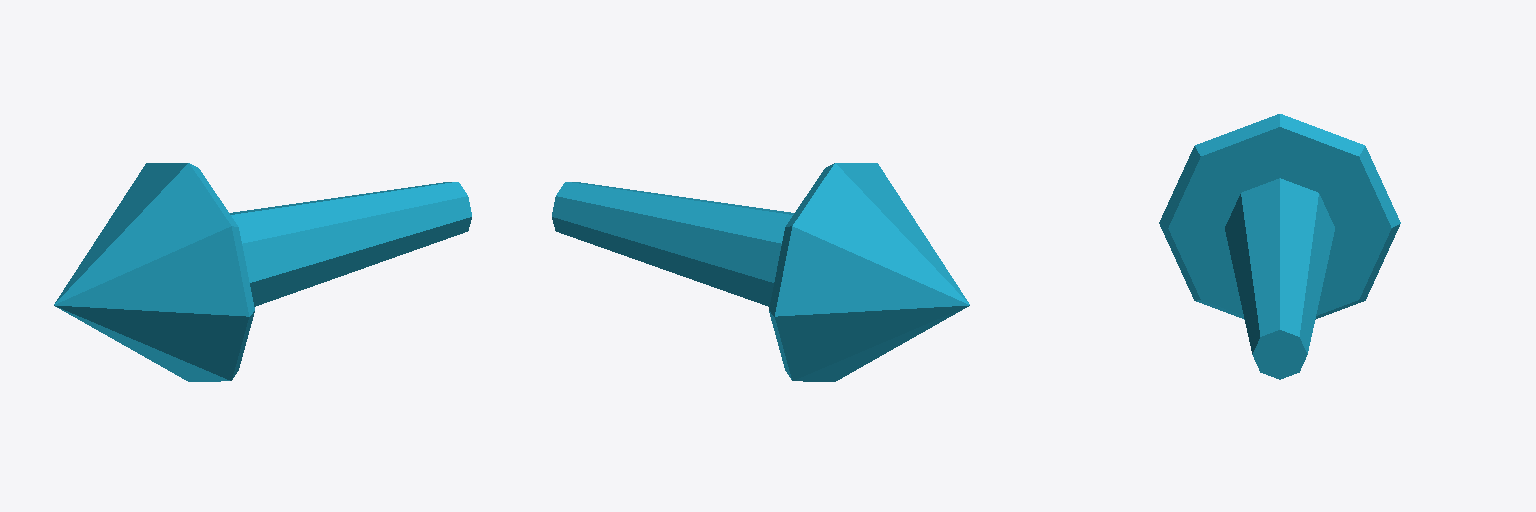
The model's file is arrow.obj.
The picture shows the model from 3 angles: view 1: azimuth 30°, elevation 25°; view 2: azimuth 150°, elevation 25°; view 3: azimuth 270°, elevation 25°; orthographic projection.
Visible parts, largest first — view 1: Cone001; view 2: Cone001; view 3: Cone001.
Boxes of the visible parts, x1=… form: Cone001: x1=54, y1=163, x2=471, y2=381; Cone001: x1=552, y1=163, x2=969, y2=381; Cone001: x1=1159, y1=114, x2=1400, y2=379.
Size of the model in its own units: 7.21 by 3.73 by 3.73.